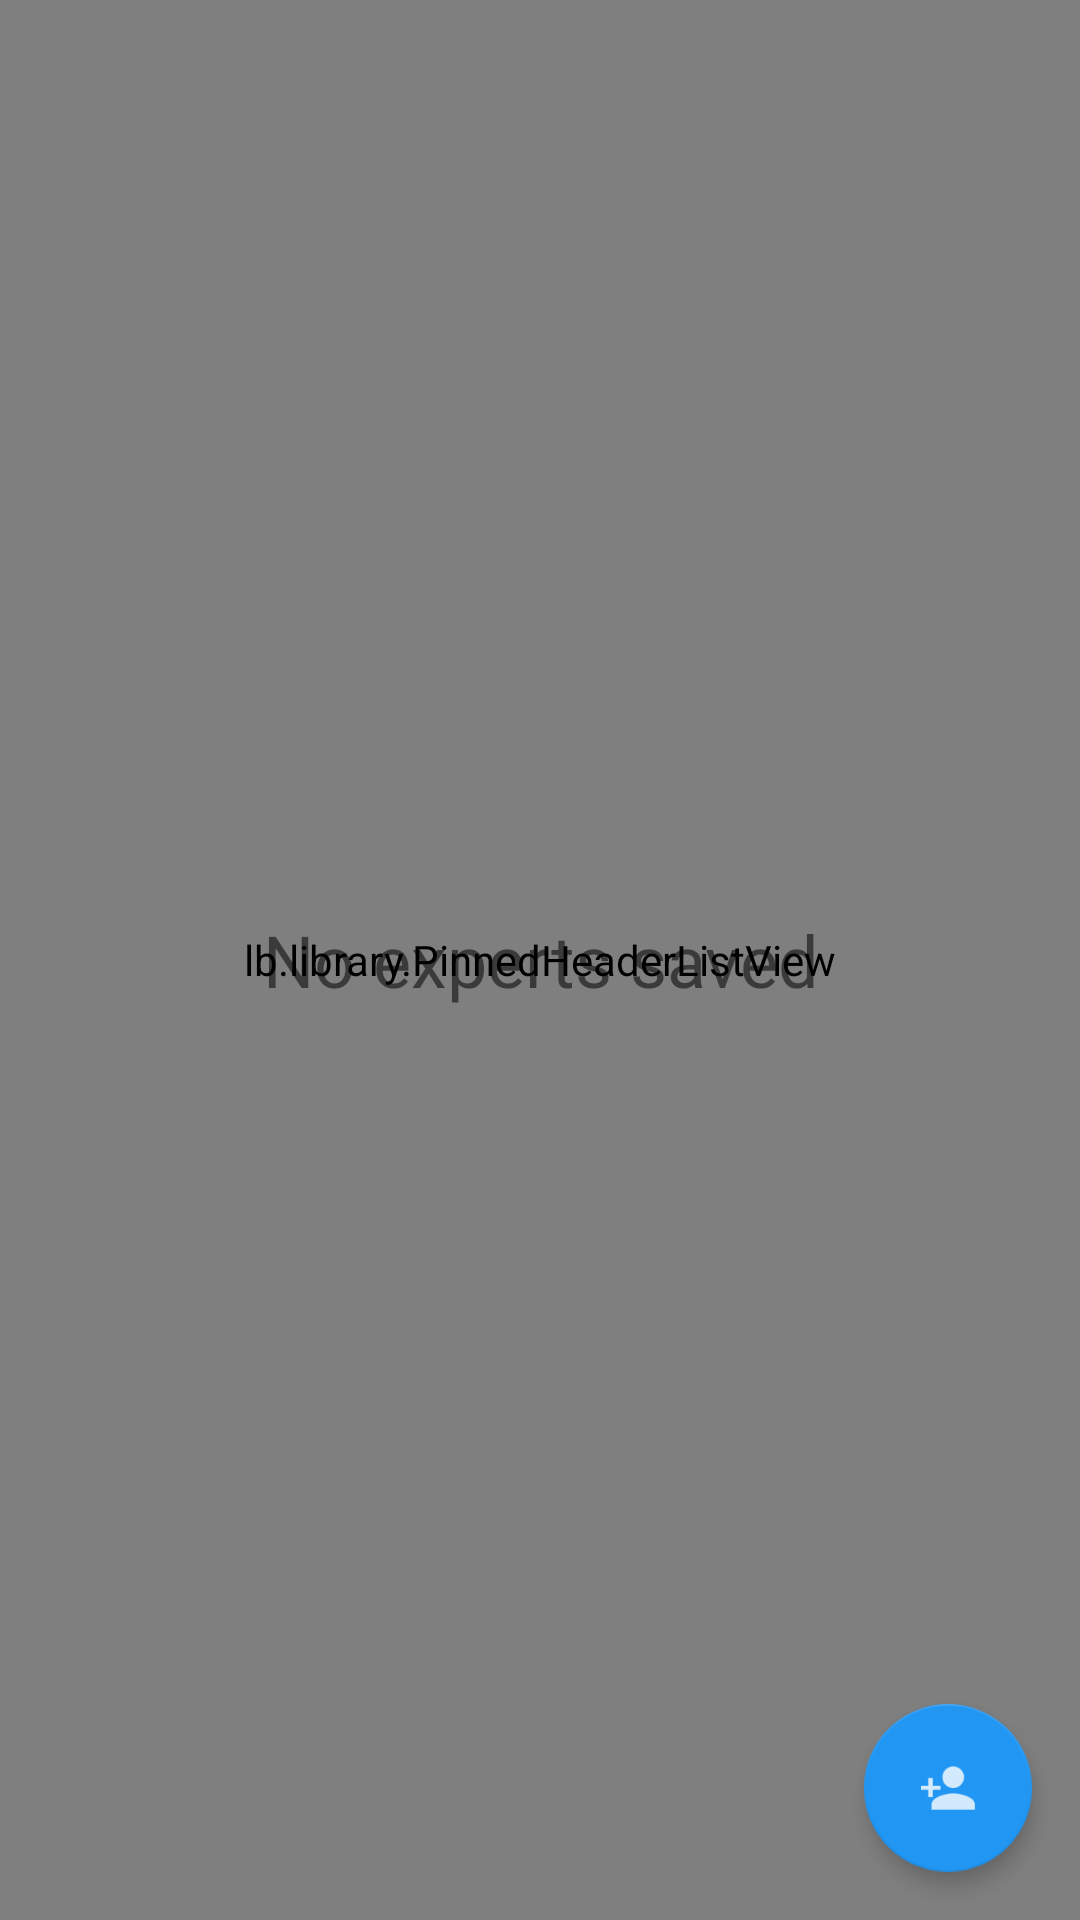

Icons on this 1080px×1920px Android screen, each with its box as (x1, y1, x2, y2):
add expert: (864, 1704, 1032, 1872)
